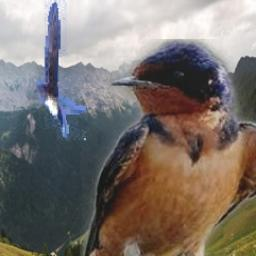Swallow: (80, 40, 256, 256), (37, 0, 86, 140)
